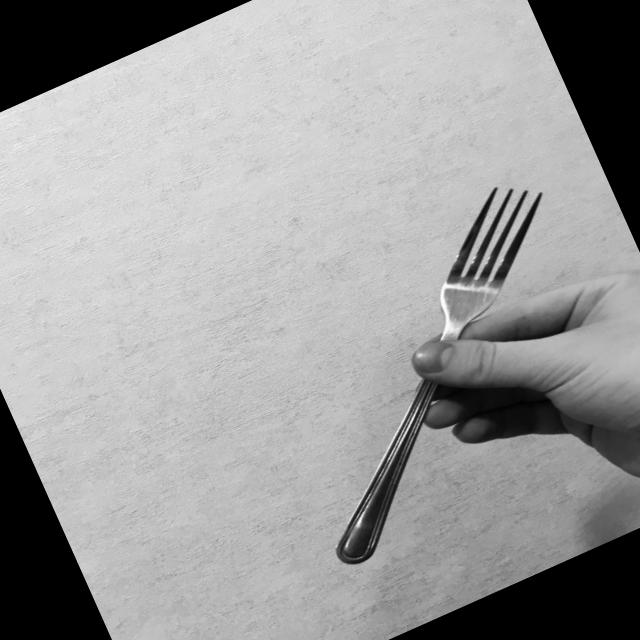fork: (226, 170, 640, 571)
